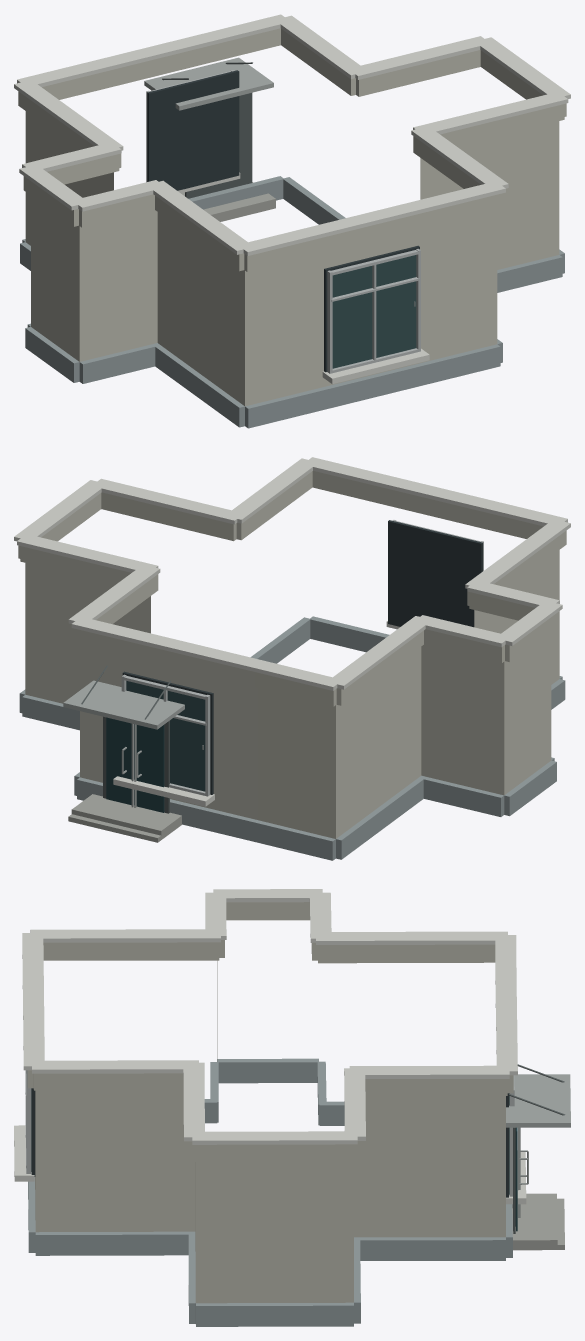
Rendered from osm_way_224938858.glb.
3 views of the same model, one above another, from view 1: azimuth 30°, elevation 25°; view 2: azimuth 150°, elevation 25°; view 3: azimuth 270°, elevation 25° (orthographic). The views are drawn at different scales.
Visible parts, largest first — view 1: Architecture | 门卫, Roof services | 门卫, Windows and facade details | 门卫, EXTERIOR::osm_way_224938858::inferred entry doors canopy and; view 2: Architecture | 门卫, Roof services | 门卫, Windows and facade details | 门卫, EXTERIOR::osm_way_224938858::inferred entry doors canopy and; view 3: Architecture | 门卫, Roof services | 门卫, EXTERIOR::osm_way_224938858::inferred entry doors canopy and, Windows and facade details | 门卫.
Part boxes in pixels (x1,y1,x2,y2): Architecture | 门卫: (18, 28, 566, 428); Roof services | 门卫: (14, 14, 570, 255); Windows and facade details | 门卫: (146, 70, 429, 384); EXTERIOR::osm_way_224938858::inferred entry doors canopy and: (144, 57, 275, 221); Architecture | 门卫: (18, 471, 566, 860); Roof services | 门卫: (14, 457, 570, 690); Windows and facade details | 门卫: (113, 520, 483, 806); EXTERIOR::osm_way_224938858::inferred entry doors canopy and: (63, 665, 184, 842); Architecture | 门卫: (27, 902, 513, 1326); Roof services | 门卫: (22, 889, 517, 1144); EXTERIOR::osm_way_224938858::inferred entry doors canopy and: (506, 1064, 570, 1250); Windows and facade details | 门卫: (14, 1070, 526, 1204).
Bounding box in the file's own units: 12.98 × 4.54 × 12.14.
